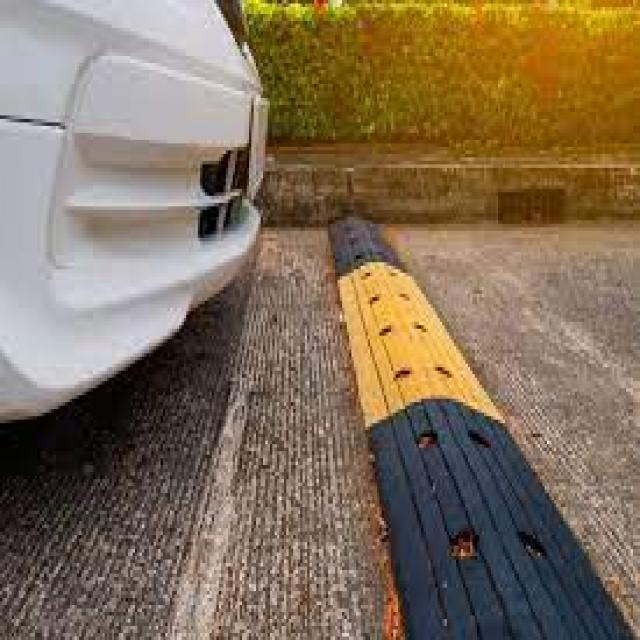Marked Bump: (293, 220, 602, 622)
